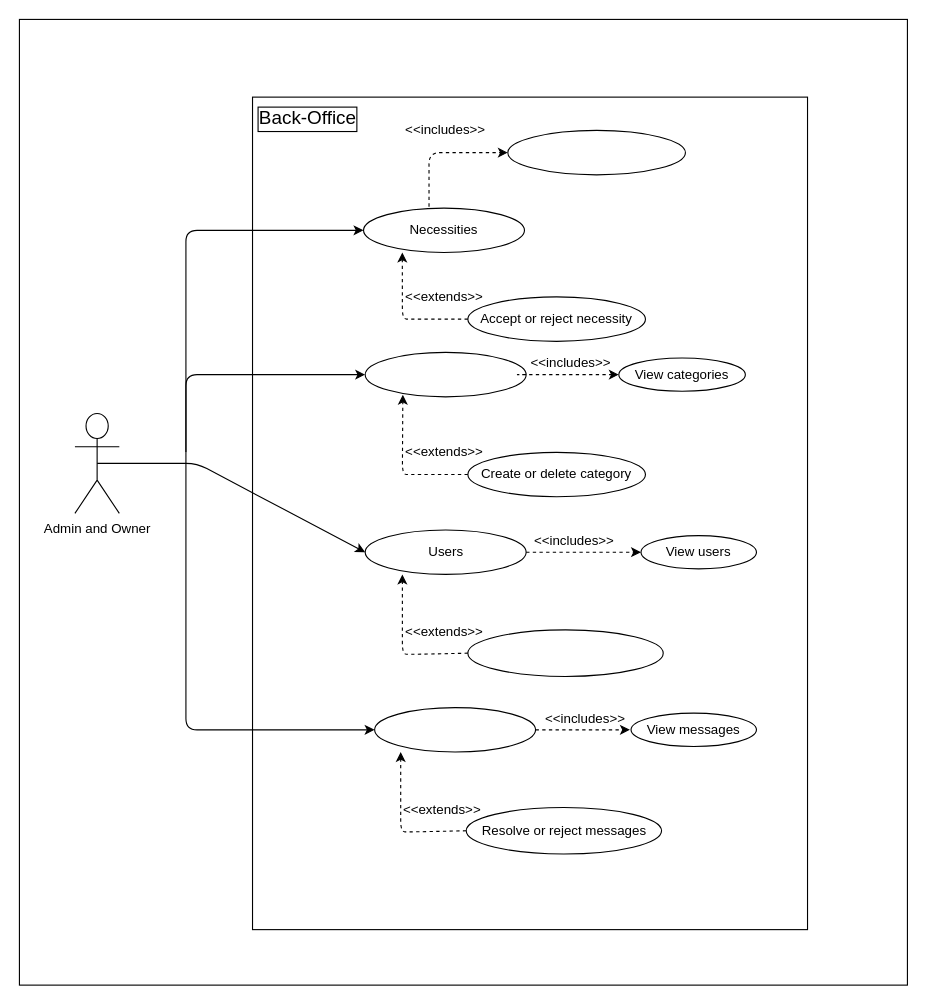
The diagram is 927 pixels wide and 1005 high, and some of its shapes have lost their labels. The box of each missing label's shape, as (x1, y1, x2, y2) in pixels:
Categories: (364, 351, 526, 397)
Grant or revoke permissions (Owner only): (467, 629, 663, 676)
User Messages: (374, 707, 536, 752)
View necessities: (507, 129, 685, 175)
